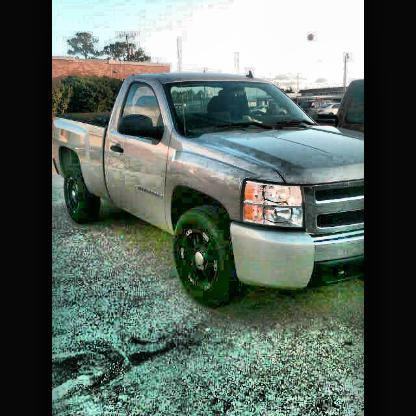Chevrolet Silverado 1500 Regular Cab 2012: (54, 72, 364, 307)
